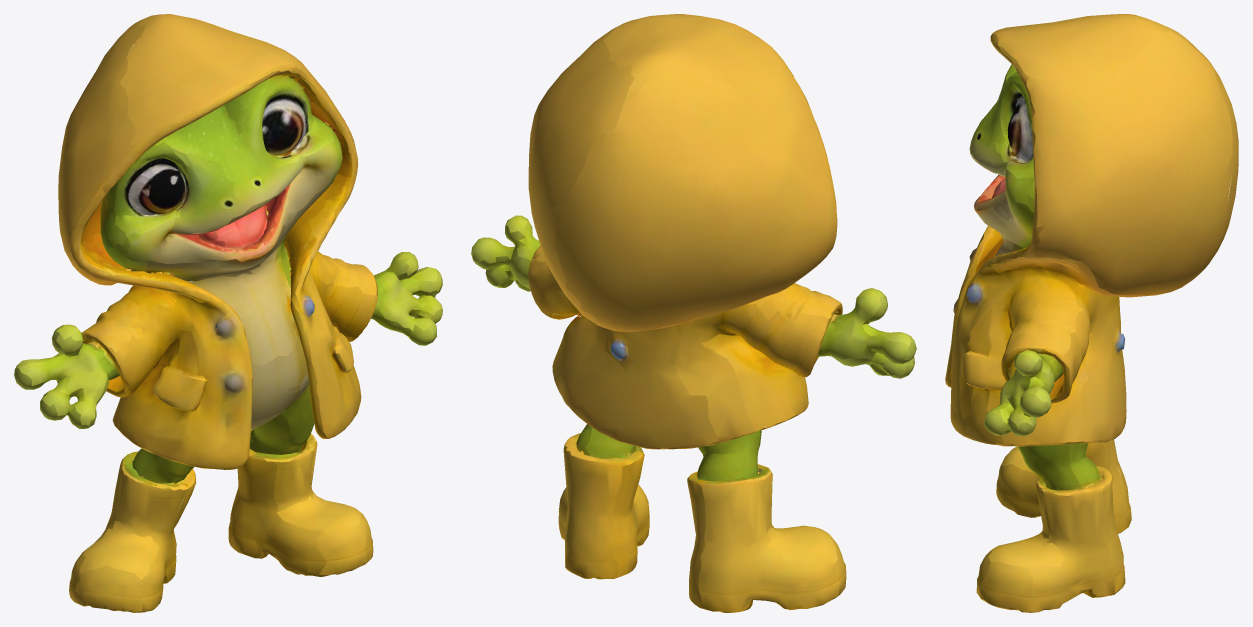
Rendered from rainbootfrog.glb.
The picture shows the model from 3 angles, left to right: view 1: azimuth 30°, elevation 25°; view 2: azimuth 150°, elevation 25°; view 3: azimuth 270°, elevation 25°; orthographic projection. The views are drawn at different scales.
Visible parts, largest first — view 1: textured_mesh.obj; view 2: textured_mesh.obj; view 3: textured_mesh.obj.
Part boxes in pixels (x1,y1,x2,y2): textured_mesh.obj: (14, 14, 442, 612); textured_mesh.obj: (471, 14, 916, 612); textured_mesh.obj: (945, 14, 1238, 612).
Bounding box in the file's own units: 0.8406 × 1 × 0.5021.
Materials: 1 (1 with a texture image).
